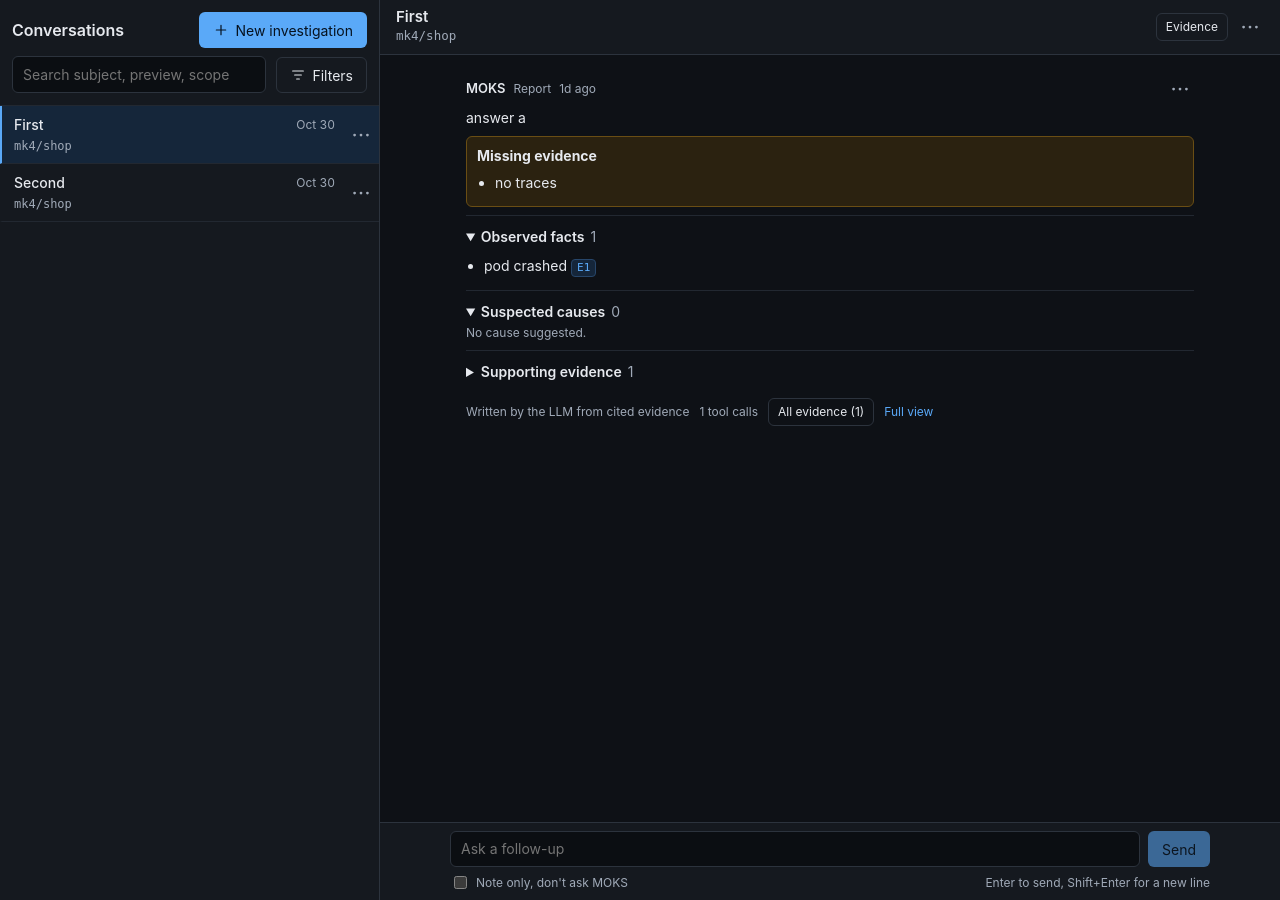
Test: workspace › opens evidence from a citation and keeps uncertainty visible
Expected: the list item "no traces" is shown, [495,174,557,190]
What coordinates should you click on to do the following:
click the button "E1"
I would click on:
 (584, 268)
Its box is [571,258,596,276].
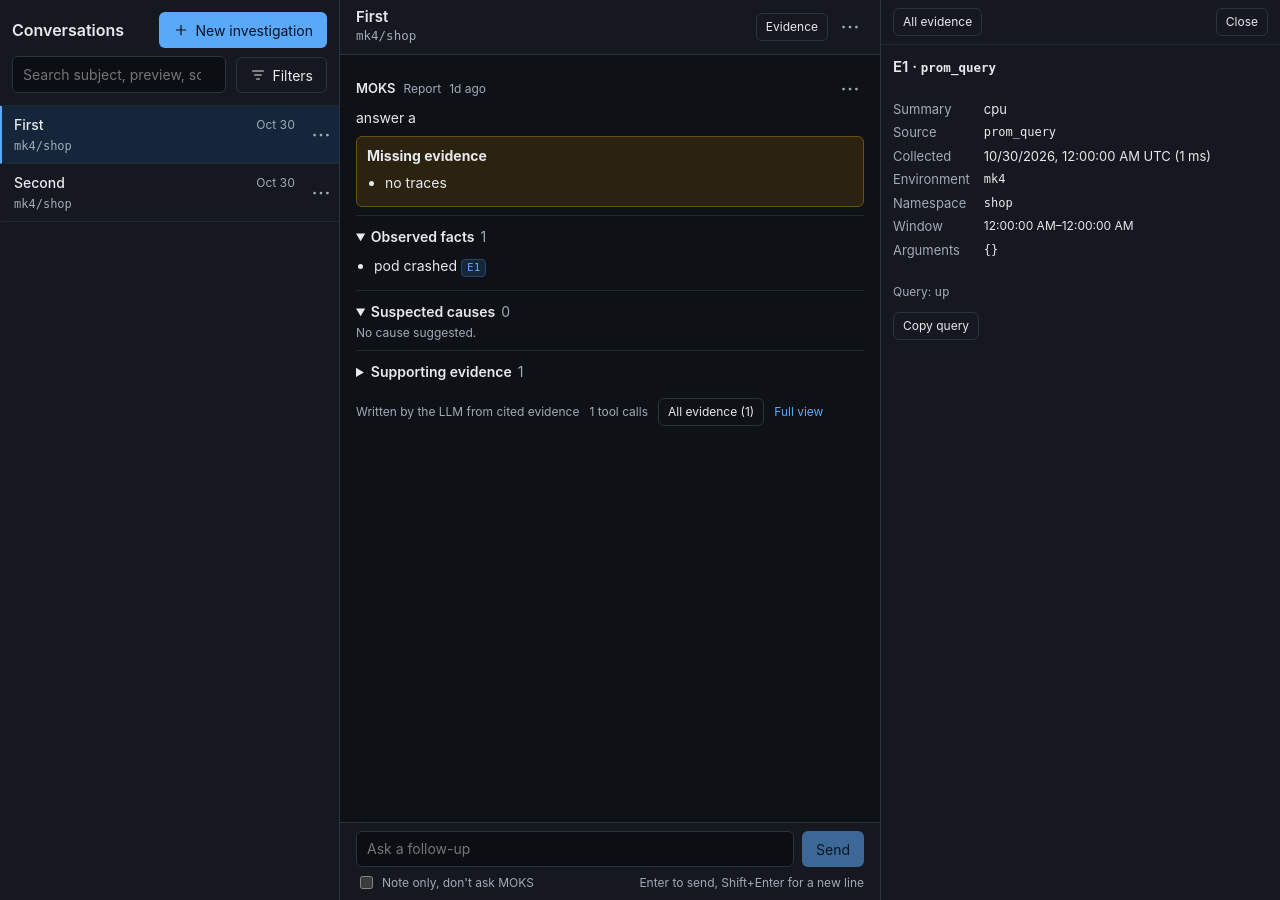
Now the element labelled "evidence" is shown, box [880,0,1279,899]
Now the button "Copy query" is shown, box [893,312,979,340]
